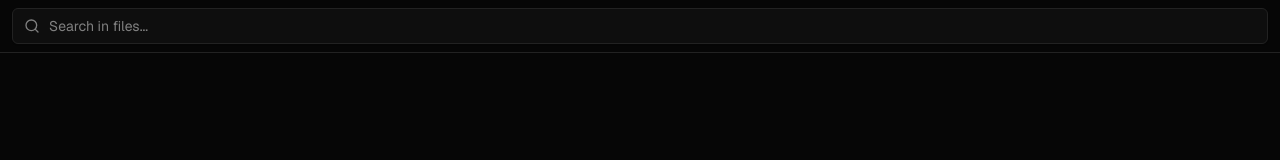
Test case: ContentSearch › Search results › should show loading state
The image size is (1280, 160).
Type "test" into the field with placeholder "Search in files..." at {"x": 640, "y": 26}, box [12,8,1268,44]
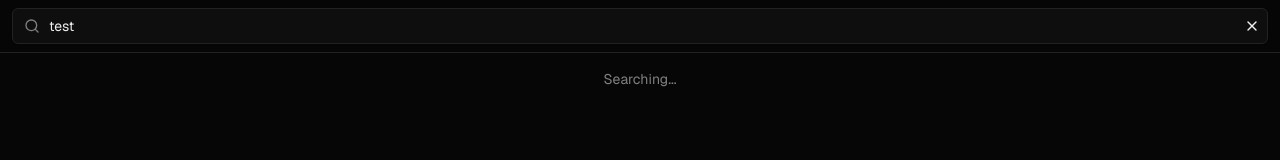
Check: the text "Searching..." is shown, box [603,70,677,88]
